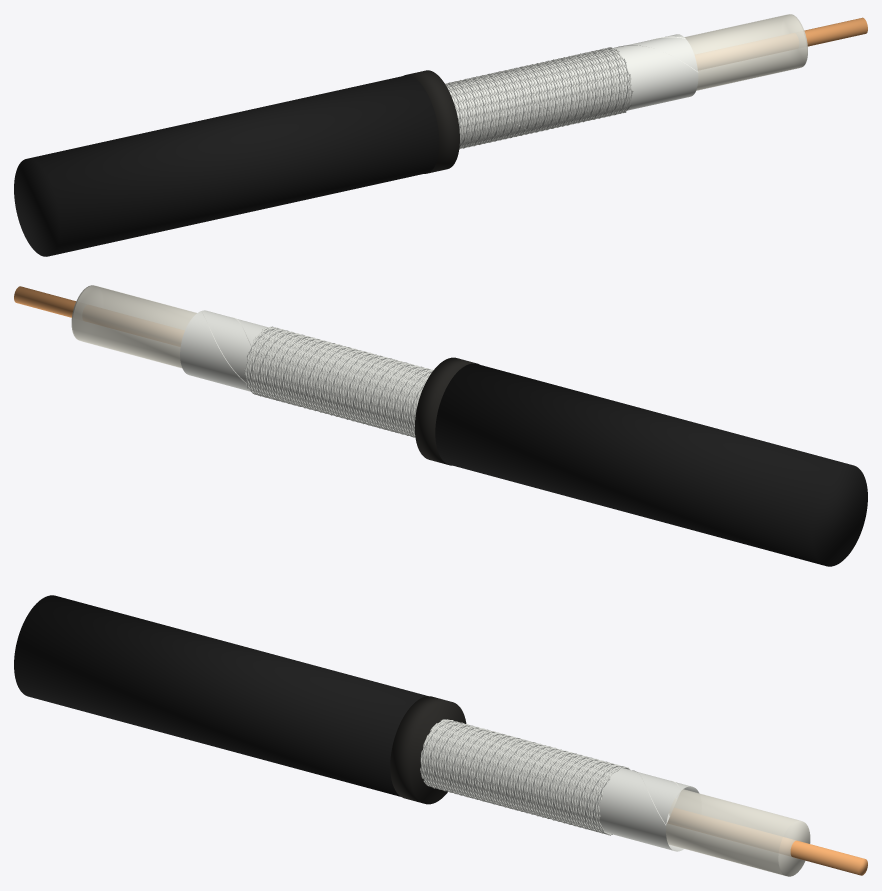
Rendered from rf-lmr100.glb.
The picture shows the model from 3 angles, top to bottom: view 1: azimuth 30°, elevation 25°; view 2: azimuth 150°, elevation 25°; view 3: azimuth 330°, elevation 25°; orthographic projection. The views are drawn at different scales.
Visible parts, largest first — view 1: matte black pvc jacket body, duobond foil sleeve, gas injected foam dielectric, smooth dielectric skin, jacket cut lip, solid center conductor continuous, braid left hand carrier 09, braid left hand carrier 08, braid left hand carrier 11, braid left hand carrier 06, braid left hand carrier 12, braid left hand carrier 05 (+18 smaller); view 2: matte black pvc jacket body, duobond foil sleeve, gas injected foam dielectric, smooth dielectric skin, jacket cut lip, solid center conductor continuous, braid left hand carrier 05, braid left hand carrier 06, braid left hand carrier 03, braid left hand carrier 08, braid left hand carrier 02, braid left hand carrier 09 (+18 smaller); view 3: matte black pvc jacket body, duobond foil sleeve, gas injected foam dielectric, smooth dielectric skin, jacket cut lip, solid center conductor continuous, braid left hand carrier 06, braid left hand carrier 08, braid left hand carrier 09, braid left hand carrier 05, braid left hand carrier 03, braid left hand carrier 11 (+18 smaller).
Part boxes in pixels (bbox=[...]): matte black pvc jacket body: bbox=[14, 75, 439, 256]; duobond foil sleeve: bbox=[447, 34, 698, 145]; gas injected foam dielectric: bbox=[685, 14, 807, 90]; smooth dielectric skin: bbox=[684, 14, 806, 90]; jacket cut lip: bbox=[403, 70, 459, 173]; solid center conductor continuous: bbox=[804, 17, 867, 46]; braid left hand carrier 09: bbox=[451, 48, 625, 144]; braid left hand carrier 08: bbox=[449, 47, 623, 144]; braid left hand carrier 11: bbox=[456, 52, 631, 148]; braid left hand carrier 06: bbox=[445, 48, 617, 146]; braid left hand carrier 12: bbox=[459, 52, 633, 149]; braid left hand carrier 05: bbox=[447, 48, 615, 146]; matte black pvc jacket body: bbox=[435, 363, 867, 566]; duobond foil sleeve: bbox=[180, 310, 430, 431]; gas injected foam dielectric: bbox=[71, 285, 196, 367]; smooth dielectric skin: bbox=[73, 285, 196, 368]; jacket cut lip: bbox=[414, 357, 479, 465]; solid center conductor continuous: bbox=[14, 286, 75, 317]; braid left hand carrier 05: bbox=[246, 329, 428, 436]; braid left hand carrier 06: bbox=[244, 329, 430, 435]; braid left hand carrier 03: bbox=[252, 331, 421, 437]; braid left hand carrier 08: bbox=[253, 327, 432, 434]; braid left hand carrier 02: bbox=[254, 332, 423, 435]; braid left hand carrier 09: bbox=[262, 326, 432, 433]; matte black pvc jacket body: bbox=[14, 595, 428, 796]; duobond foil sleeve: bbox=[421, 722, 699, 851]; gas injected foam dielectric: bbox=[666, 789, 810, 876]; smooth dielectric skin: bbox=[666, 789, 799, 875]; jacket cut lip: bbox=[390, 696, 466, 804]; solid center conductor continuous: bbox=[778, 837, 867, 875]; braid left hand carrier 06: bbox=[423, 722, 623, 829]; braid left hand carrier 08: bbox=[428, 724, 628, 830]; braid left hand carrier 09: bbox=[431, 724, 619, 831]; braid left hand carrier 05: bbox=[420, 721, 619, 829]; braid left hand carrier 03: bbox=[423, 720, 614, 827]; braid left hand carrier 11: bbox=[436, 726, 603, 833].
Size of the model in its own units: 6.51 by 0.7045 by 0.8373.
